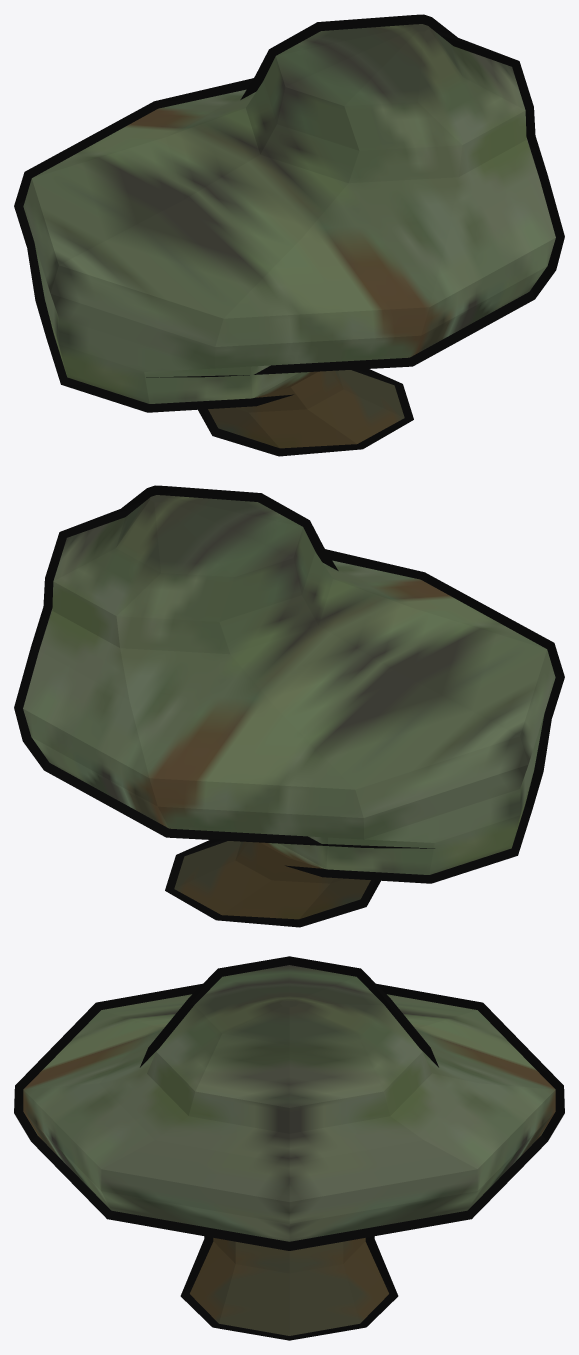
The model's file is Plant_Plant_TreeBonsai_Things_Plant_BonsaiTree_BonsaiTreeB.glb.
3 views of the same model, one above another, from view 1: azimuth 30°, elevation 25°; view 2: azimuth 150°, elevation 25°; view 3: azimuth 270°, elevation 25° (orthographic).
Visible parts, largest first — view 1: Body, Outline; view 2: Body, Outline; view 3: Body, Outline.
Part boxes in pixels (x1=…): Body: x1=23, y1=24, x2=555, y2=448; Outline: x1=14, y1=14, x2=564, y2=456; Body: x1=23, y1=495, x2=555, y2=919; Outline: x1=14, y1=485, x2=564, y2=927; Body: x1=23, y1=965, x2=555, y2=1335; Outline: x1=14, y1=956, x2=564, y2=1340.
Bounding box in the file's own units: 0.9219 × 0.7031 × 0.9056.
Materials: 2 (1 with a texture image).
